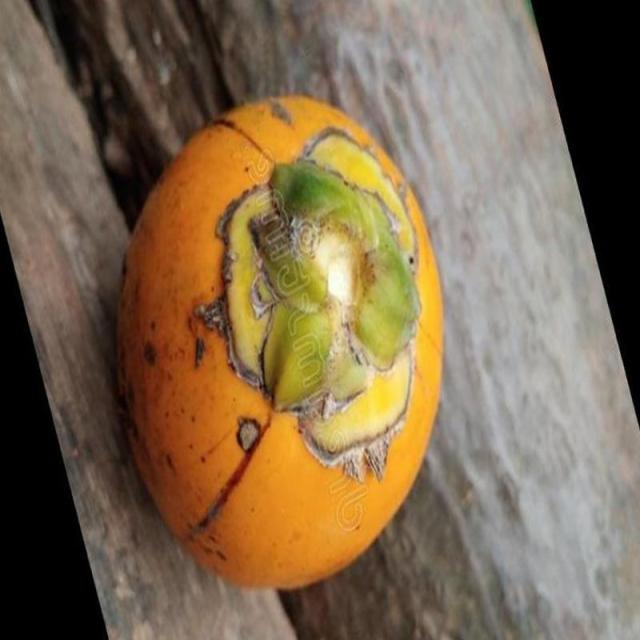good: (118, 96, 442, 587)
